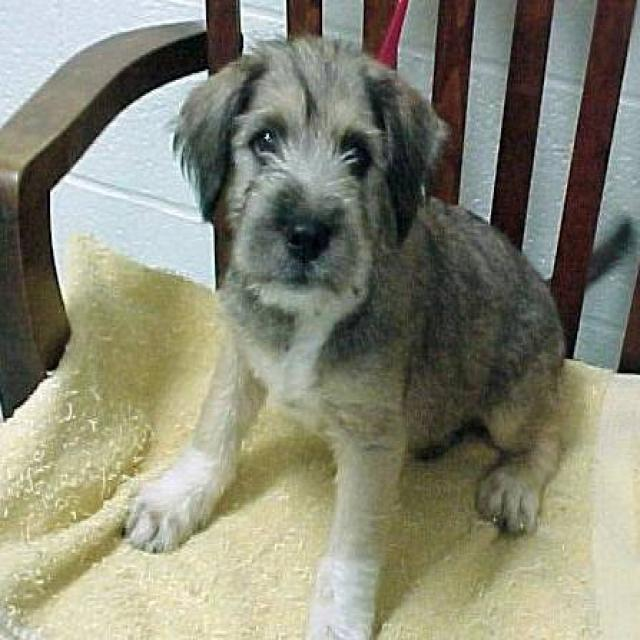dog: (121, 32, 568, 638)
